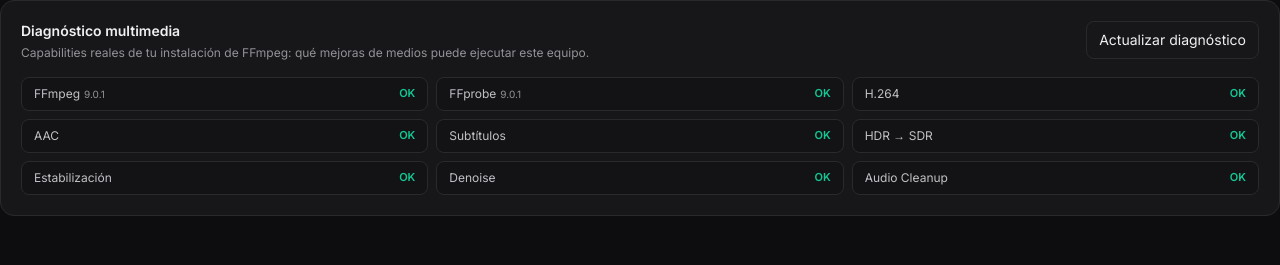
Test: Diagnóstico multimedia › permite forzar un re-diagnóstico con el botón de actualizar
This screenshot has width=1280, height=265.
Check: the text "HDR → SDR" is shown, box [865,128,933,144]
Click the button "Actualizar diagnóstico". click: (1173, 40)
box: [1086,21,1259,59]
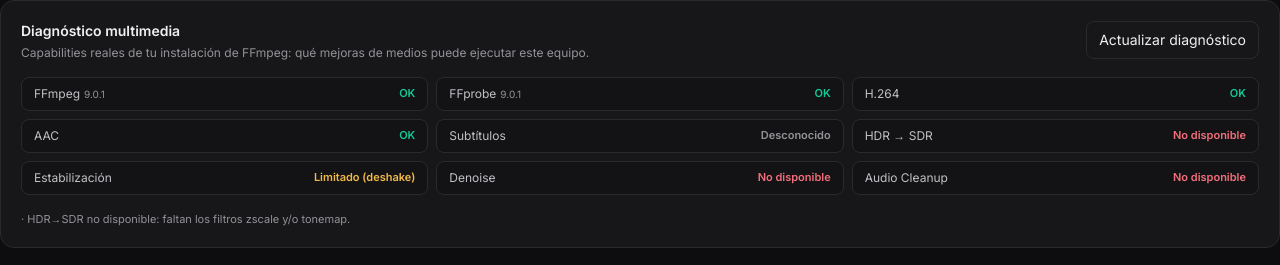
Check: the text "Limitado (deshake)" is shown, box [314,170,415,186]
Check: the text "No disponible" in the row of "HDR → SDR" is shown, box [1173,128,1246,142]
